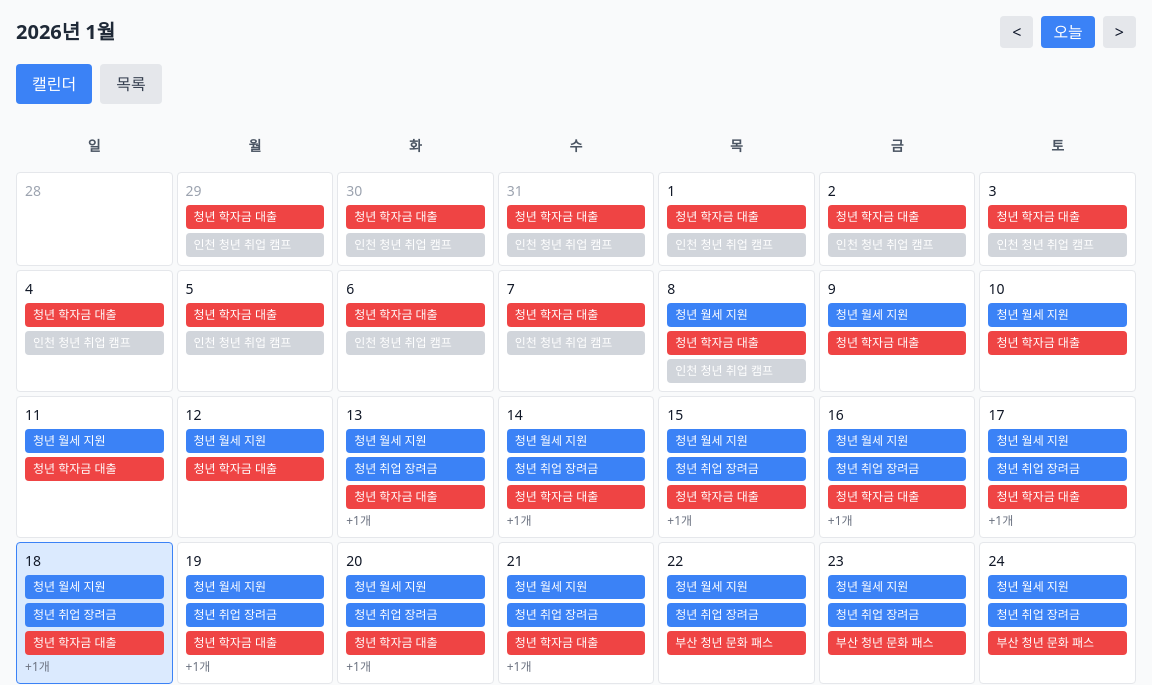
Test: CalendarView › 월 네비게이션이 동작한다
Expected: the heading "2026년 1월" is shown, [16, 18, 115, 46]
다음 월로 이동
Click the button named "다음 달".
click(1119, 32)  # box [1103, 16, 1136, 48]
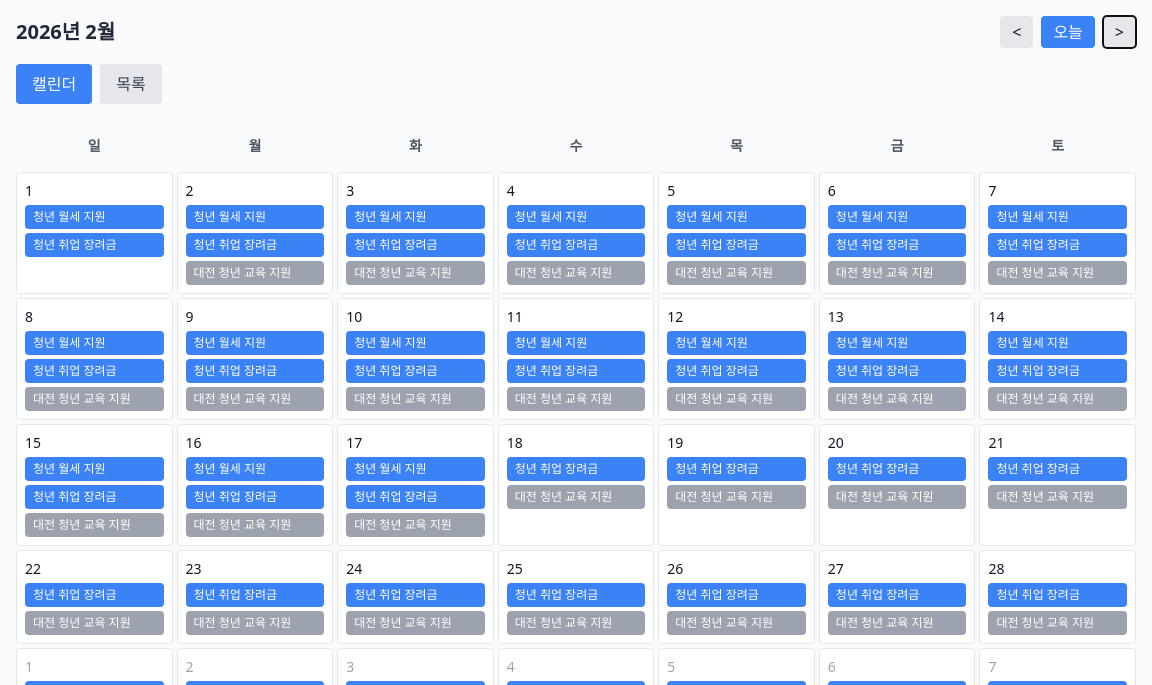
Now the heading "2026년 2월" is shown, box [16, 18, 115, 46]
이전 월로 이동
Click the button named "이전 달".
click(1017, 32)  # box [1000, 16, 1033, 48]
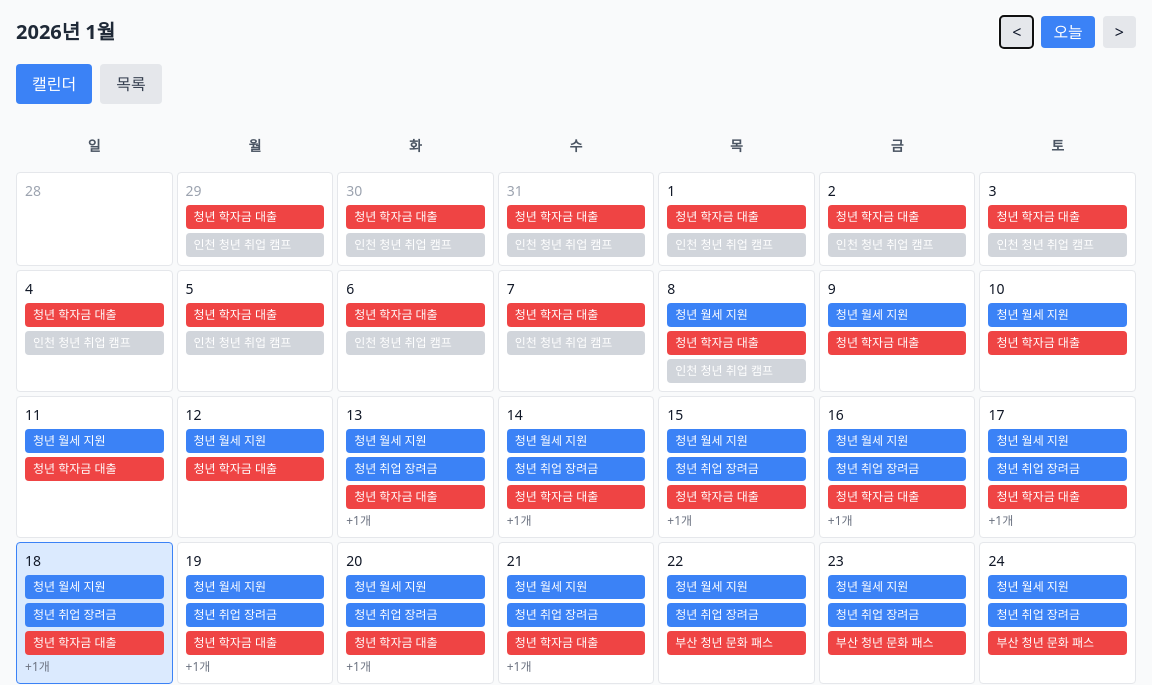
Now the heading "2026년 1월" is shown, box [16, 18, 115, 46]
